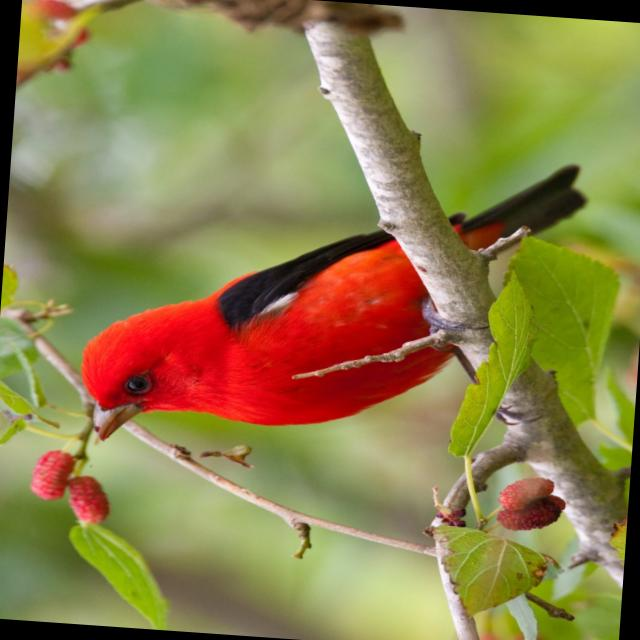Birds: (41, 212, 422, 478)
